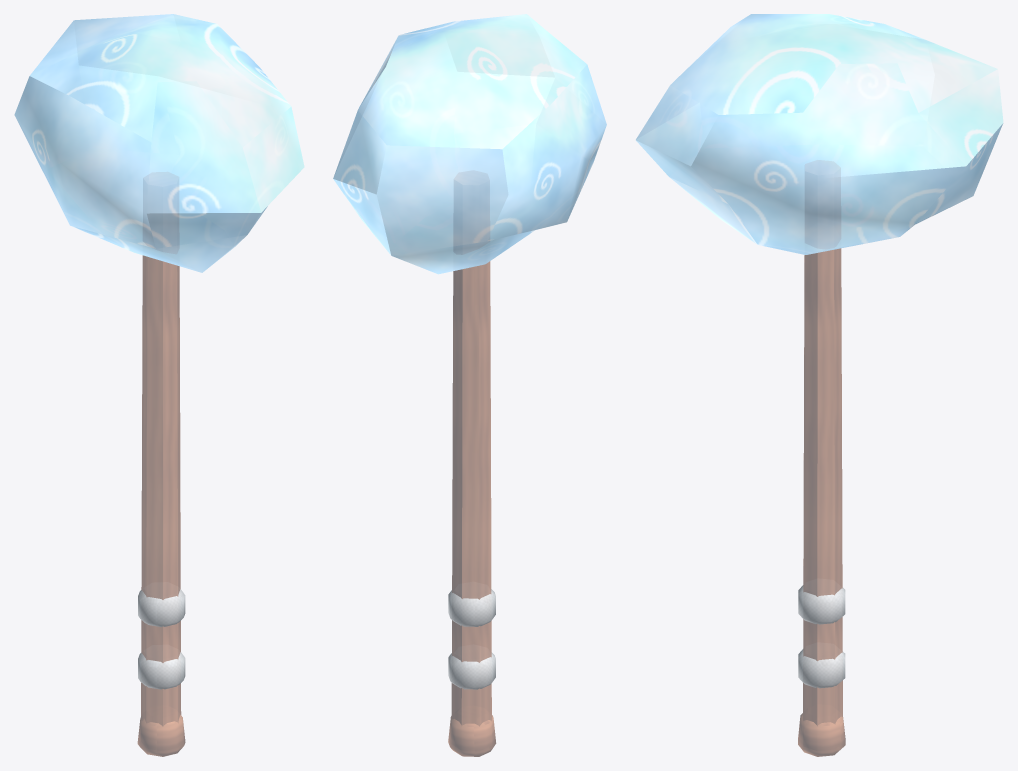
File: sledgehammer_t1.gltf
3 views of the same model, side by side, from view 1: azimuth 30°, elevation 25°; view 2: azimuth 150°, elevation 25°; view 3: azimuth 270°, elevation 25° (orthographic). The views are drawn at different scales.
Parts seen in each view (by area): view 1: sledgehammer_t1_mesh; view 2: sledgehammer_t1_mesh; view 3: sledgehammer_t1_mesh.
Part boxes in pixels (left/top/right/bottom): sledgehammer_t1_mesh: left=14, top=14, right=304, bottom=756; sledgehammer_t1_mesh: left=333, top=14, right=606, bottom=756; sledgehammer_t1_mesh: left=636, top=14, right=1003, bottom=756.
Bounding box in the file's own units: 0.3629 × 1.15 × 0.5222.
Materials: 3 (3 with a texture image).
